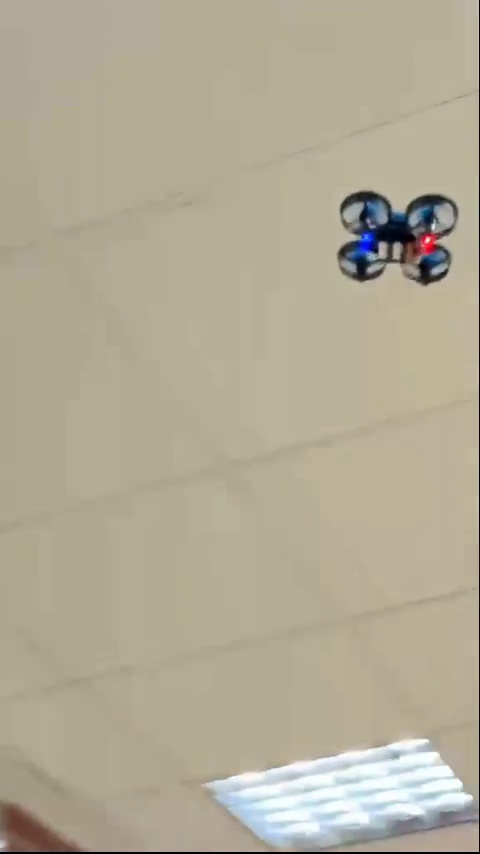drone: (339, 187, 456, 283)
